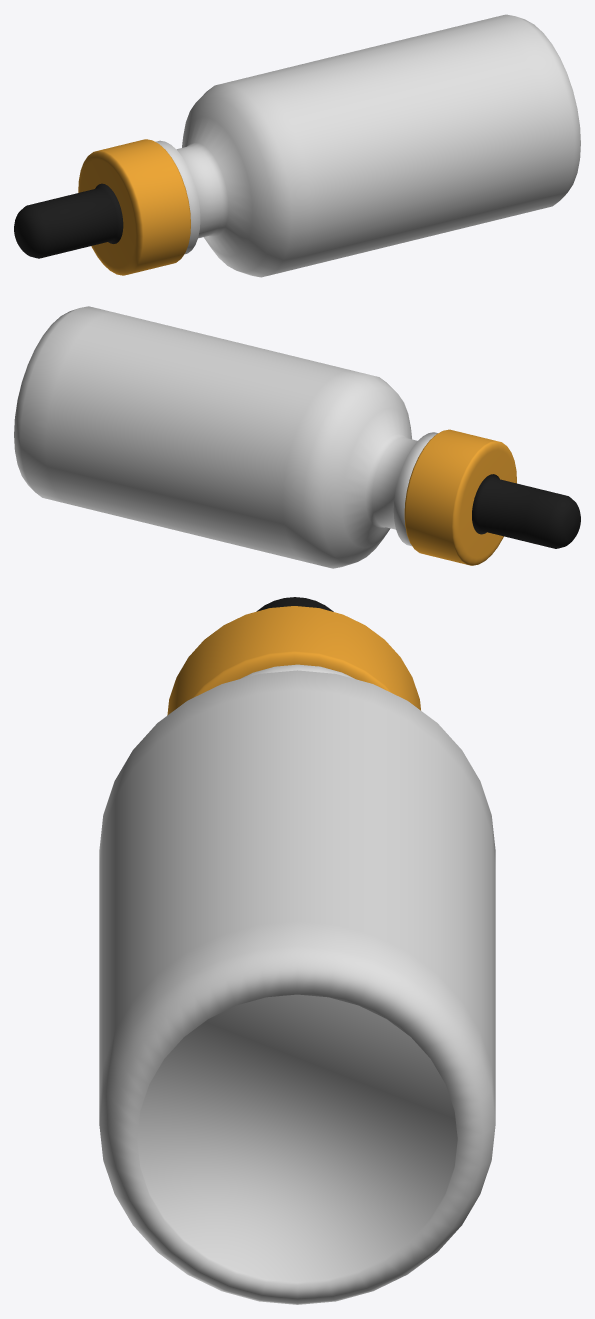
File: SerumBottle.gltf
The picture shows the model from 3 angles, top to bottom: view 1: azimuth 30°, elevation 25°; view 2: azimuth 150°, elevation 25°; view 3: azimuth 270°, elevation 25°; orthographic projection. The views are drawn at different scales.
Visible parts, largest first — view 1: Cylinder, Cylinder.001, Cylinder.002; view 2: Cylinder, Cylinder.001, Cylinder.002; view 3: Cylinder, Cylinder.001.
Part boxes in pixels (x1=…): Cylinder: x1=155, y1=14, x2=580, y2=277; Cylinder.001: x1=78, y1=139, x2=190, y2=275; Cylinder.002: x1=14, y1=183, x2=123, y2=258; Cylinder: x1=14, y1=306, x2=437, y2=568; Cylinder.001: x1=404, y1=429, x2=516, y2=565; Cylinder.002: x1=472, y1=474, x2=580, y2=548; Cylinder: x1=99, y1=664, x2=495, y2=1304; Cylinder.001: x1=167, y1=606, x2=420, y2=715.
Bounding box in the file's own units: 4.21 × 1.39 × 1.39.
